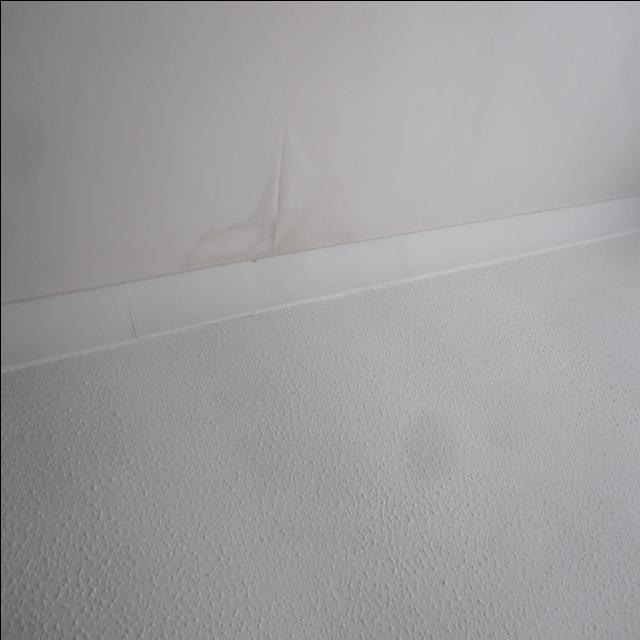tile: (185, 126, 345, 263), (400, 401, 478, 475)
